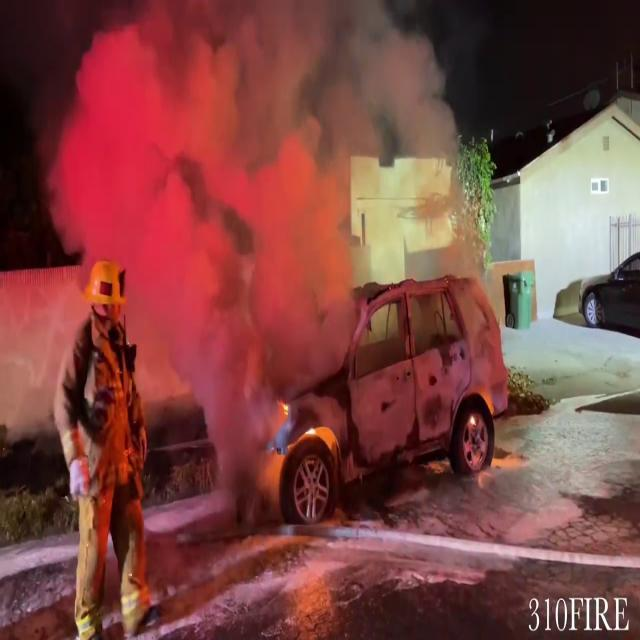Smoke: (53, 0, 340, 438)
